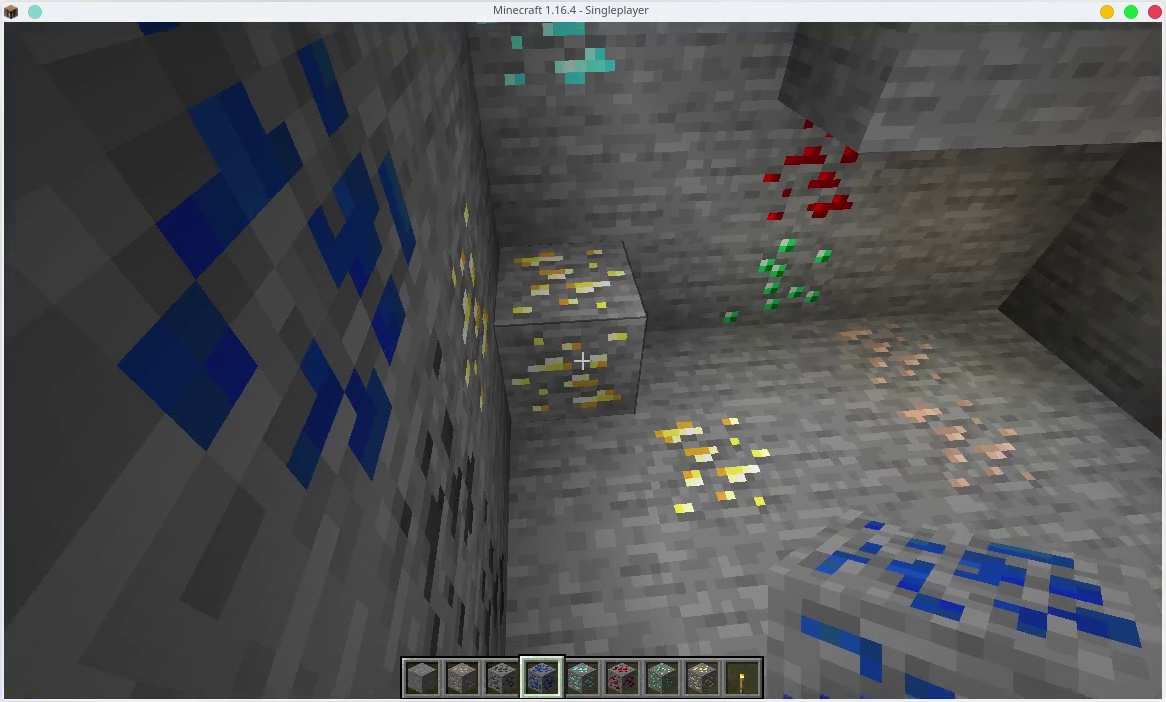gold: (498, 245, 648, 429), (650, 421, 781, 520), (452, 217, 486, 393), (684, 662, 719, 693)
